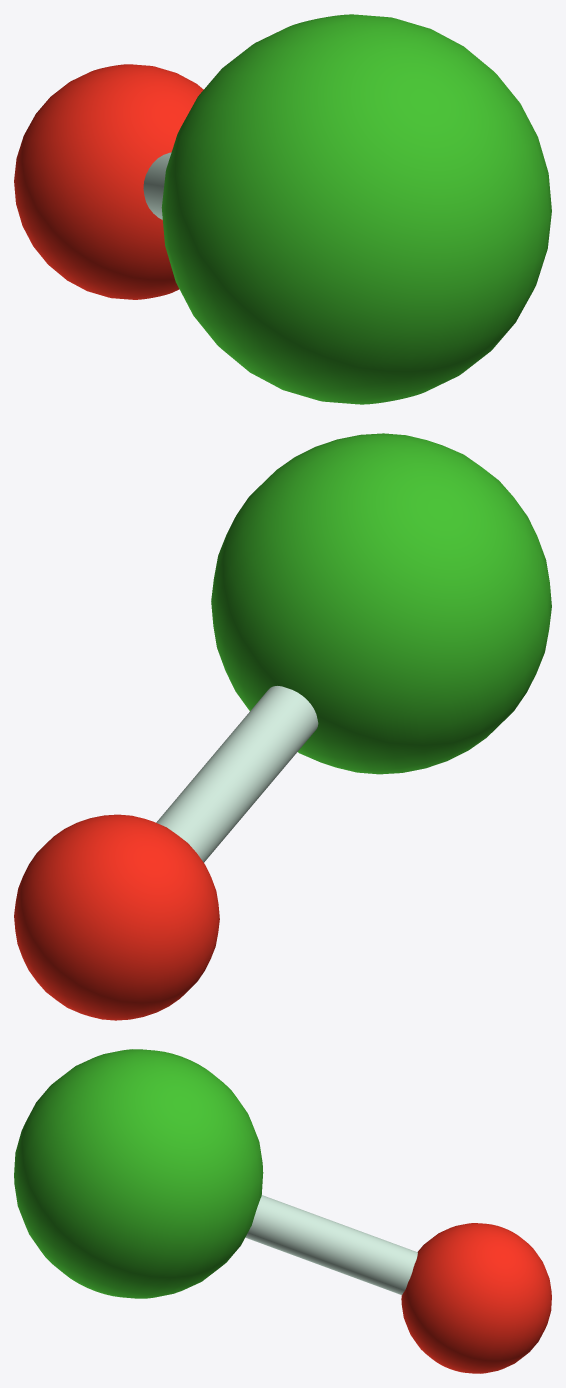
File: compoundModel1.glb
3 renders of one model, top to bottom at view 1: azimuth 30°, elevation 25°; view 2: azimuth 150°, elevation 25°; view 3: azimuth 270°, elevation 25°, orthographic. The views are drawn at different scales.
Parts seen in each view (by area): view 1: Sphere, Sphere.001, Cylinder; view 2: Sphere, Sphere.001, Cylinder; view 3: Sphere, Sphere.001, Cylinder.
Boxes of the visible parts, left/top/right/bottom form: Sphere: left=161, top=14, right=551, bottom=404; Sphere.001: left=14, top=64, right=203, bottom=299; Cylinder: left=143, top=152, right=171, bottom=219; Sphere: left=211, top=433, right=551, bottom=774; Sphere.001: left=14, top=814, right=219, bottom=1020; Cylinder: left=156, top=686, right=318, bottom=862; Sphere: left=14, top=1049, right=263, bottom=1298; Sphere.001: left=401, top=1223, right=551, bottom=1373; Cylinder: left=245, top=1195, right=417, bottom=1294.
Bounding box in the file's own units: 3.7 × 4.82 × 7.99.
